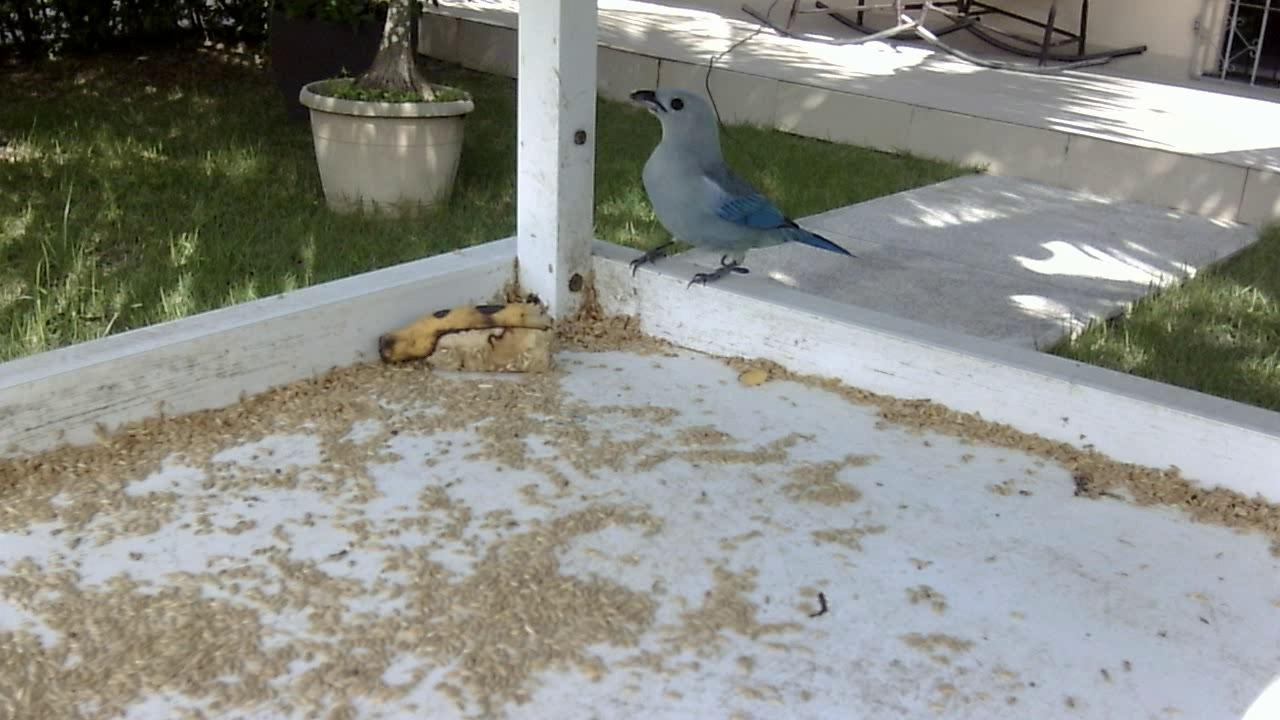sanhaco_da_amazonia: (613, 85, 863, 300)
